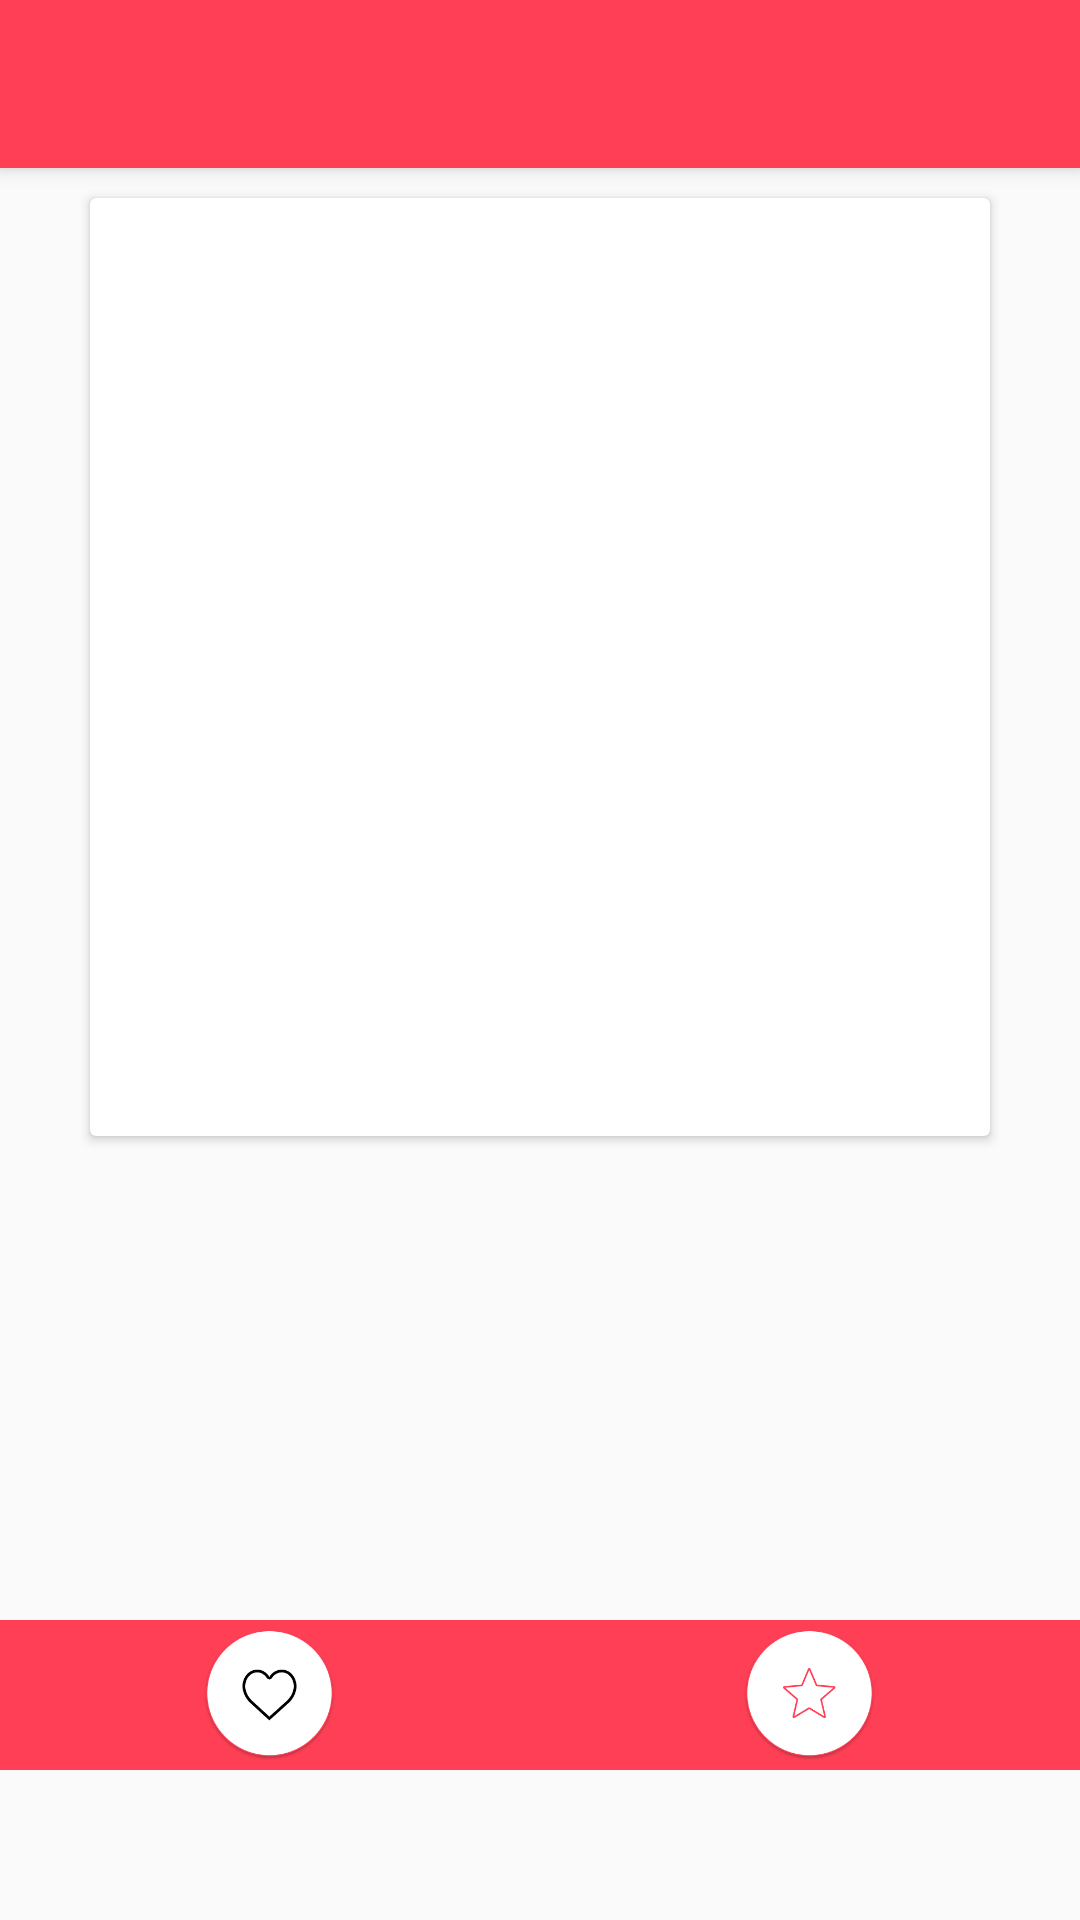

Named icons in this screenshot (1080w x 1920h) and their bounding boxes, BBox(x1, y1, x2, y2):
superlike deactives: BBox(746, 1631, 873, 1758)
